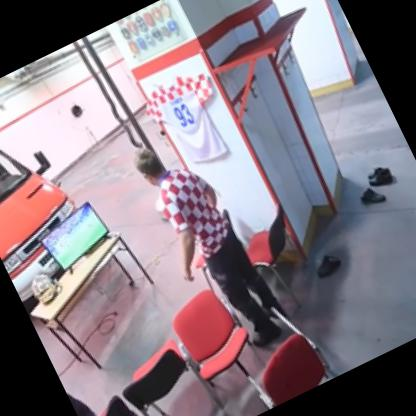Human Body: (126, 124, 298, 368)
